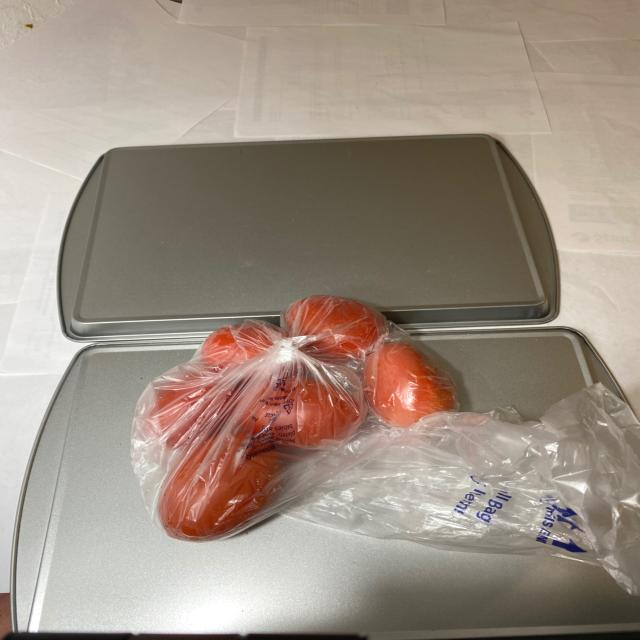tomato: (138, 295, 472, 544)
